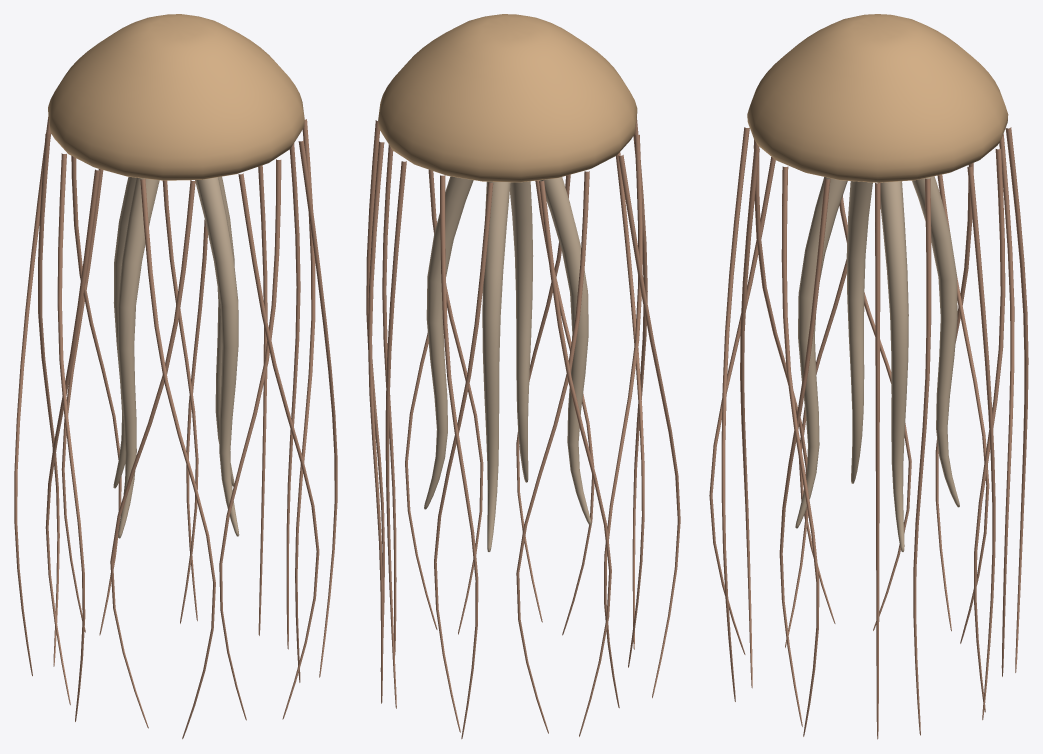
File: sea_nettle.glb
3 renders of one model, left to right at view 1: azimuth 30°, elevation 25°; view 2: azimuth 150°, elevation 25°; view 3: azimuth 270°, elevation 25°, orthographic.
Parts seen in each view (by area): view 1: sea_nettle; view 2: sea_nettle; view 3: sea_nettle.
Part boxes in pixels (x1,y1,x2,y2): sea_nettle: (14,14,337,739); sea_nettle: (366,14,680,739); sea_nettle: (709,14,1028,739).
Size of the model in its own units: 0.6545 by 1.53 by 0.6743.
